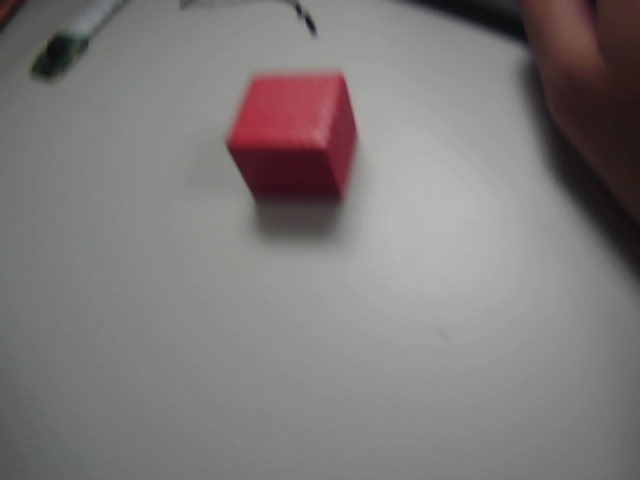redbox: (215, 67, 370, 211)
